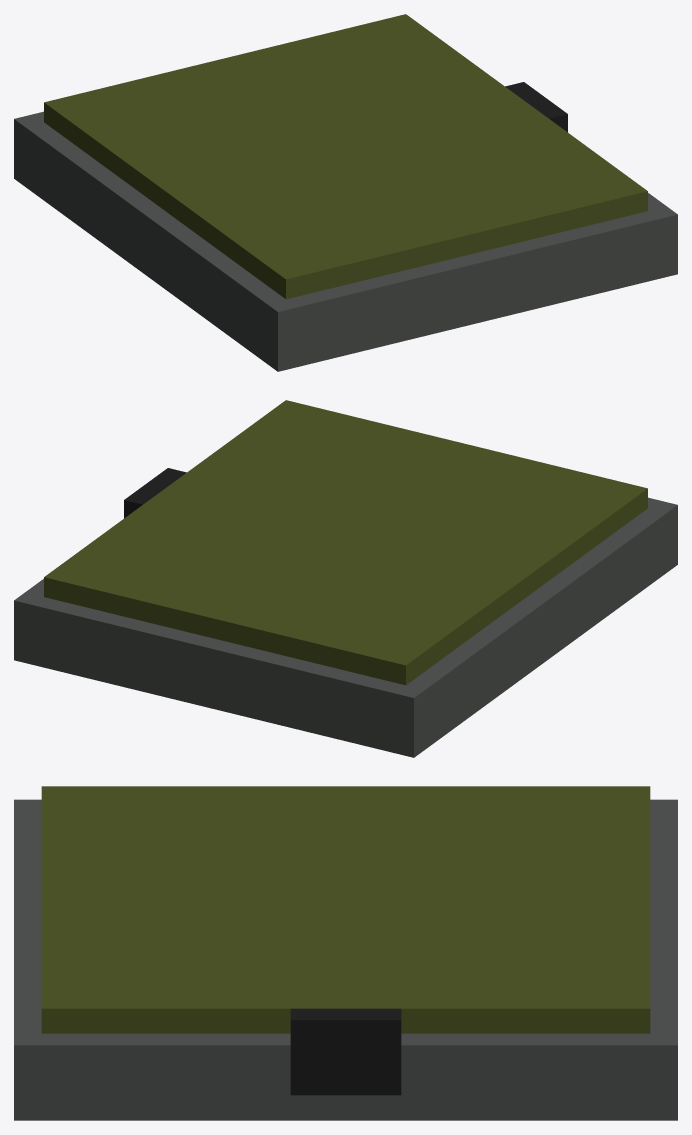
The model's file is utility_4x4_hatch.glb.
3 renders of one model, top to bottom at view 1: azimuth 30°, elevation 25°; view 2: azimuth 150°, elevation 25°; view 3: azimuth 270°, elevation 25°, orthographic. The views are drawn at different scales.
Parts seen in each view (by area): view 1: body:compound; view 2: body:compound; view 3: body:compound.
Boxes of the visible parts, x1,y1,x2,y2 form: body:compound: [14, 14, 677, 371]; body:compound: [14, 400, 677, 757]; body:compound: [14, 786, 677, 1120].
Bounding box in the file's own units: 0.6562 × 0.125 × 0.75.
